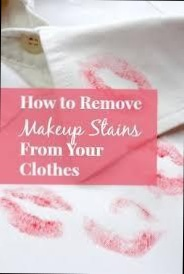lipstick: (81, 213, 167, 265), (2, 186, 72, 241), (91, 53, 155, 90), (103, 198, 159, 234), (157, 141, 183, 169), (79, 73, 117, 92), (160, 176, 184, 197)
